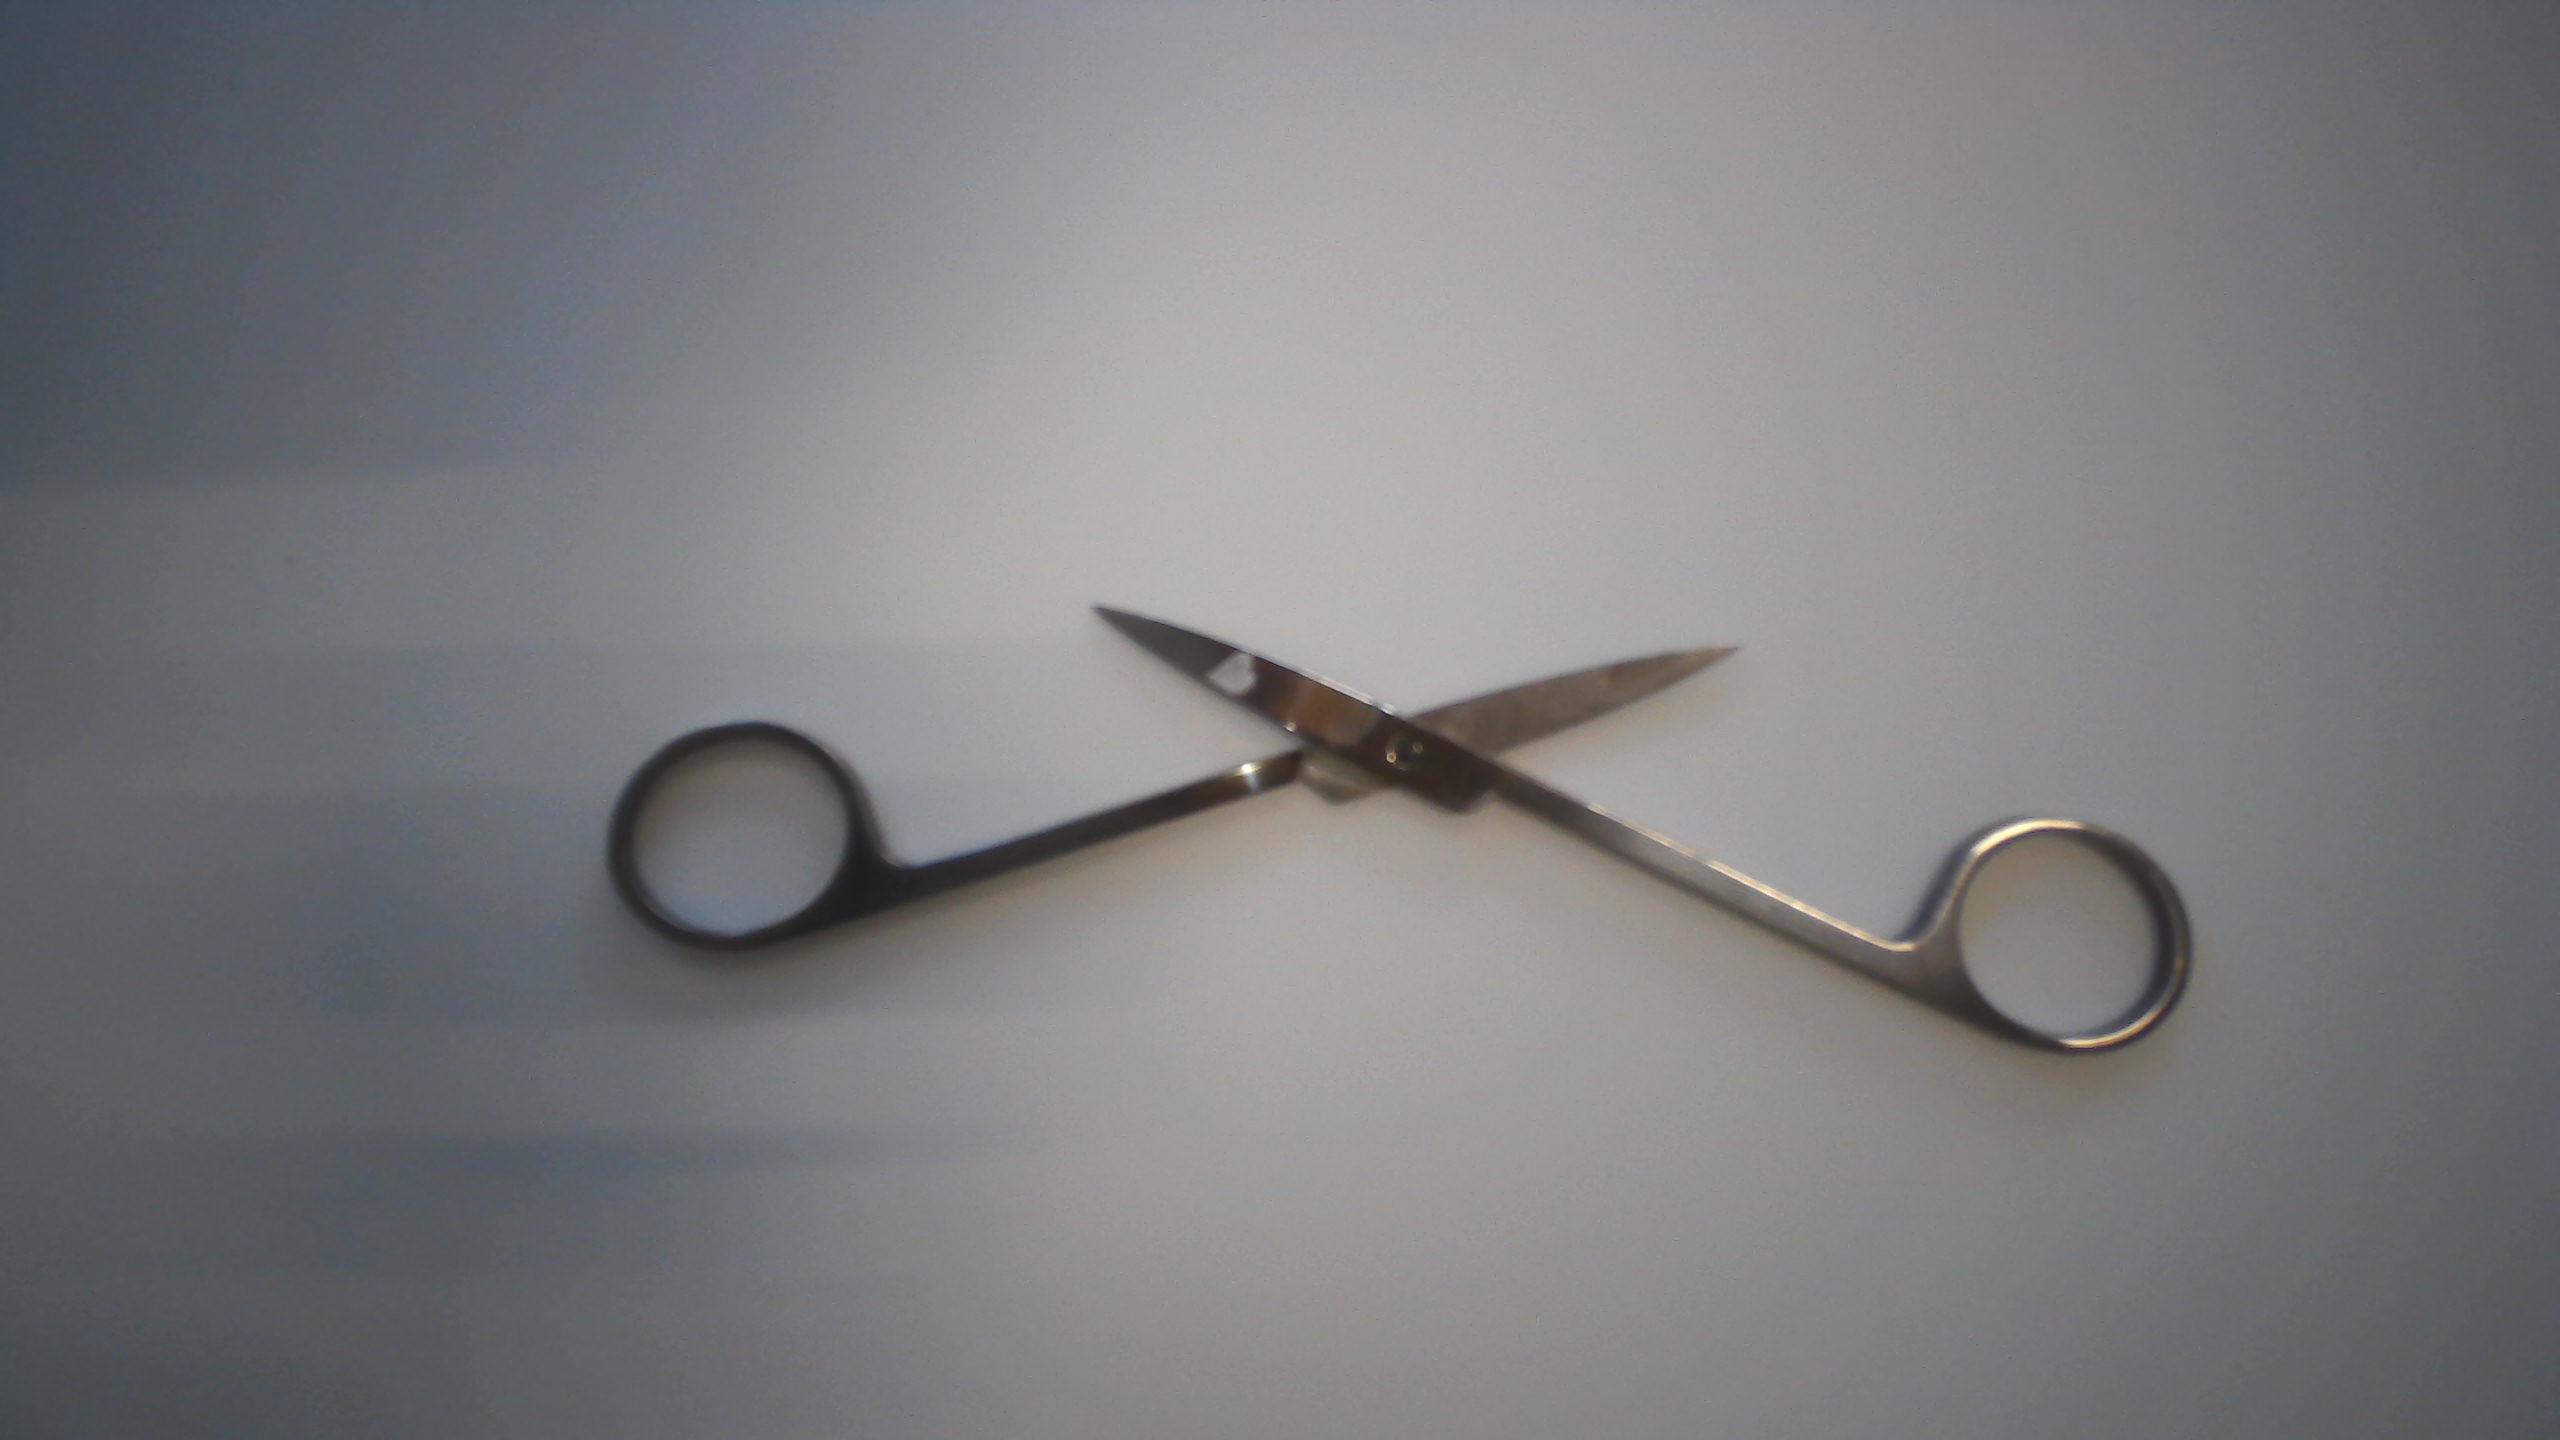Tissues: (1203, 640, 1268, 714)
